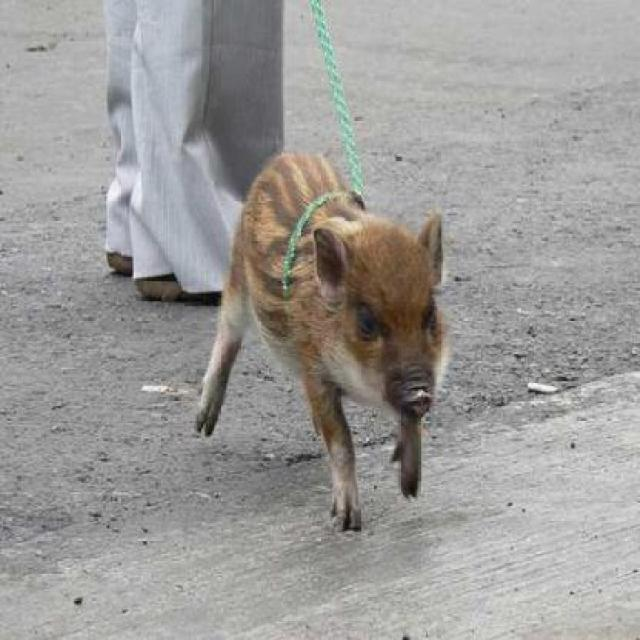pig: (202, 146, 472, 539)
